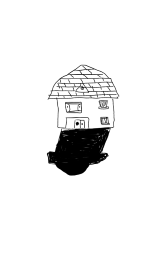closed_window: (95, 99, 111, 110), (98, 115, 112, 126)
door: (63, 115, 91, 132)
open_window: (63, 100, 83, 115)
roof: (46, 61, 121, 101)
shadow: (45, 126, 115, 177)
small_house: (1, 1, 161, 260)
wall: (52, 95, 118, 133)
